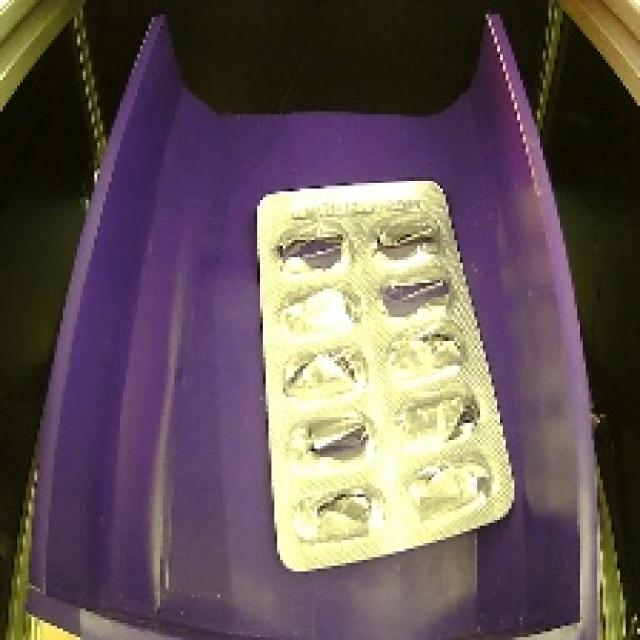med_plate: (247, 165, 525, 587)
